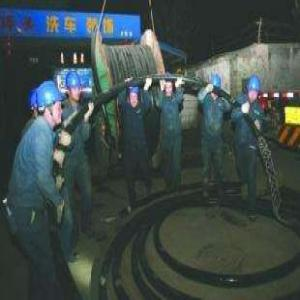blue: (37, 79, 63, 127), (66, 71, 82, 103), (247, 75, 261, 107), (128, 84, 139, 110)
